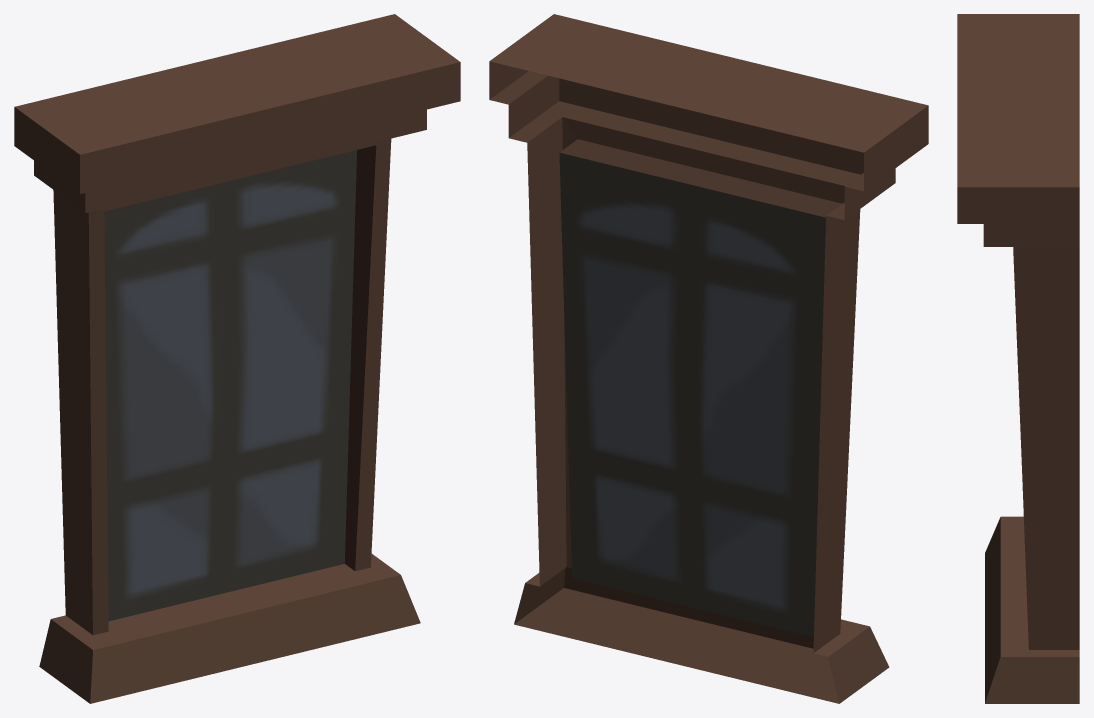
Rendered from Window_E10.fbx.
3 views of the same model, side by side, from view 1: azimuth 30°, elevation 25°; view 2: azimuth 150°, elevation 25°; view 3: azimuth 270°, elevation 25° (orthographic). The views are drawn at different scales.
Visible parts, largest first — view 1: Window_E10; view 2: Window_E10; view 3: Window_E10.
Part boxes in pixels (x1,y1,x2,y2): Window_E10: (14, 14, 460, 703); Window_E10: (489, 14, 928, 703); Window_E10: (957, 14, 1079, 703).
Size of the model in its own units: 191 by 271 by 56.94.
